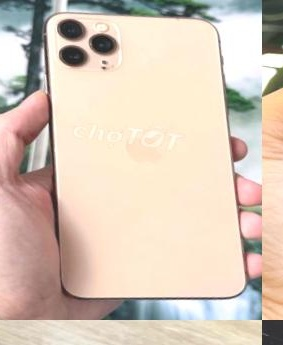physical_damage: (262, 320, 275, 345)
scratch: (99, 61, 116, 72), (170, 17, 185, 23)
